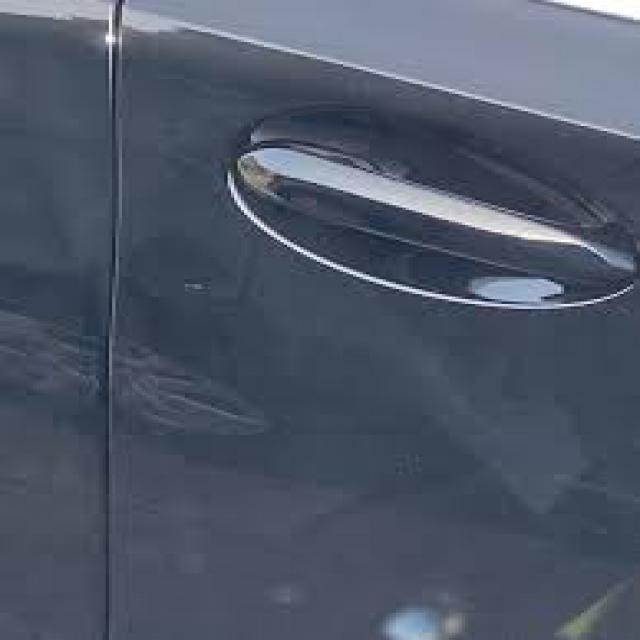doorouter-dent: (0, 0, 636, 618)
